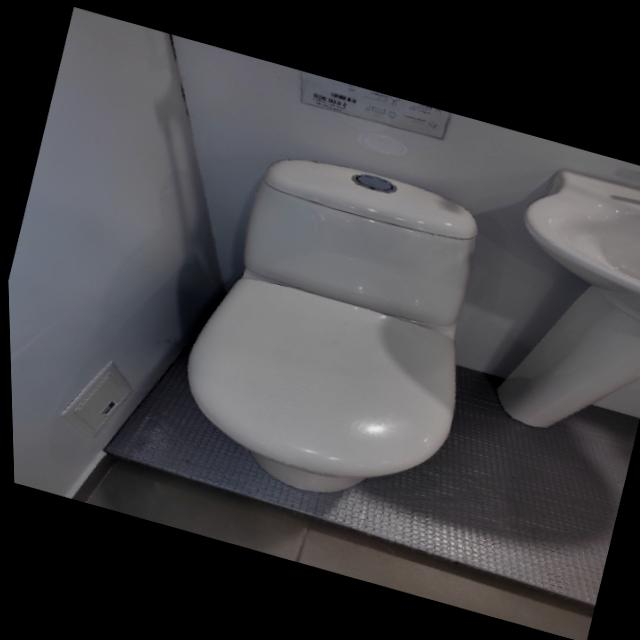toilet: (154, 133, 511, 526)
